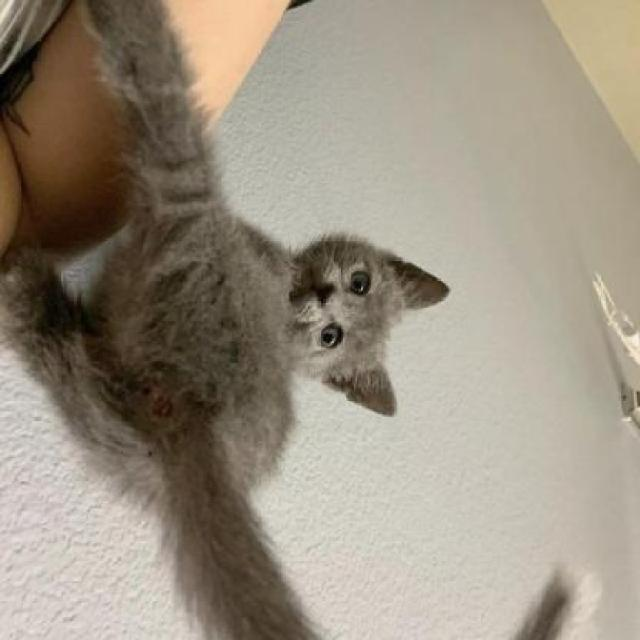cat: (55, 93, 490, 616)
